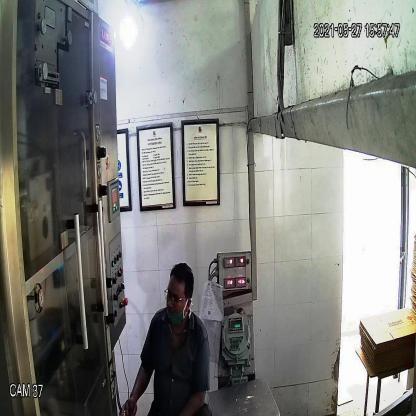goggles: (163, 285, 192, 309)
